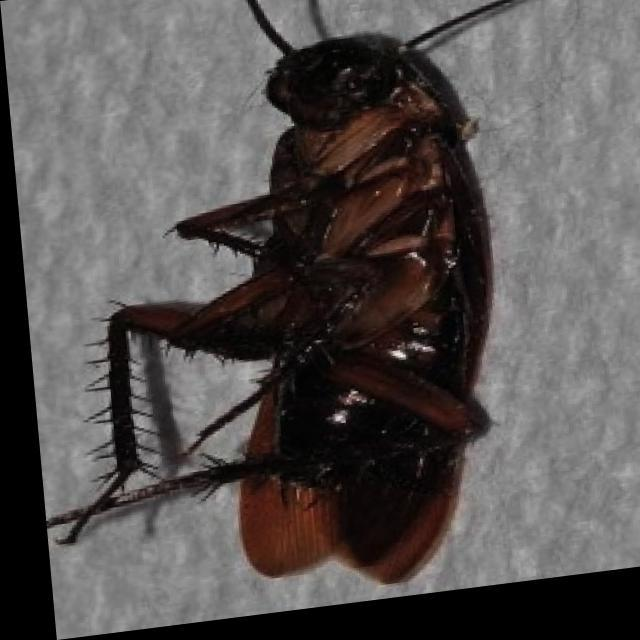cockroach: (47, 3, 528, 588)
